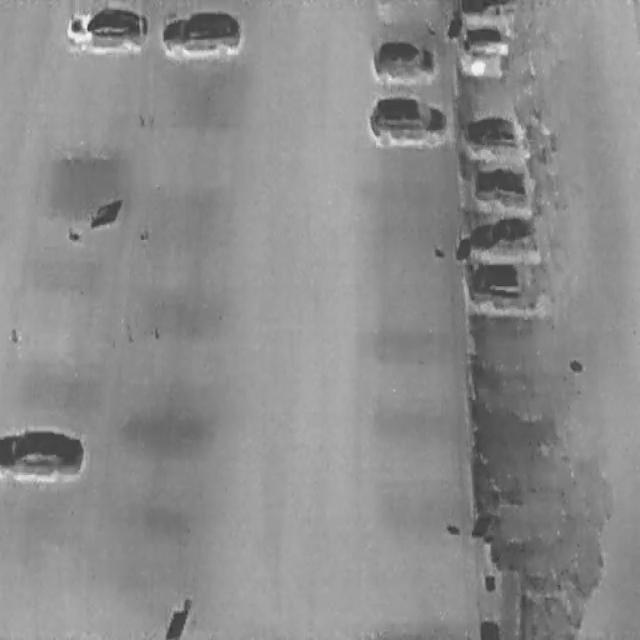Car: (0, 426, 86, 480), (365, 94, 451, 146), (64, 2, 150, 52), (160, 7, 243, 58), (465, 257, 543, 305), (462, 112, 537, 156), (465, 212, 542, 252), (469, 164, 544, 204), (371, 38, 439, 82), (459, 25, 514, 55), (456, 0, 518, 22)
